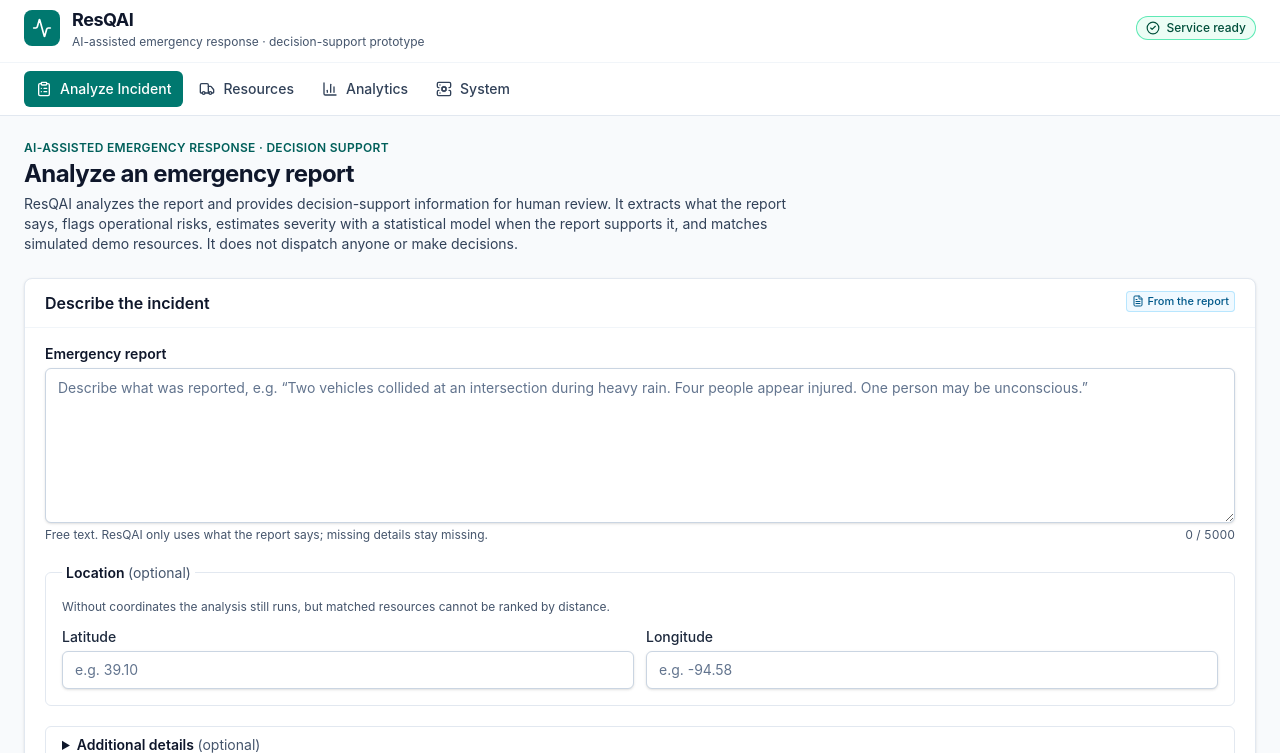
Test: Analyze page › includes coordinates only when the user provided them
This screenshot has width=1280, height=753.
In the text box labelled "Emergency report": [640, 445] box [45,368,1235,522], type "A crash."
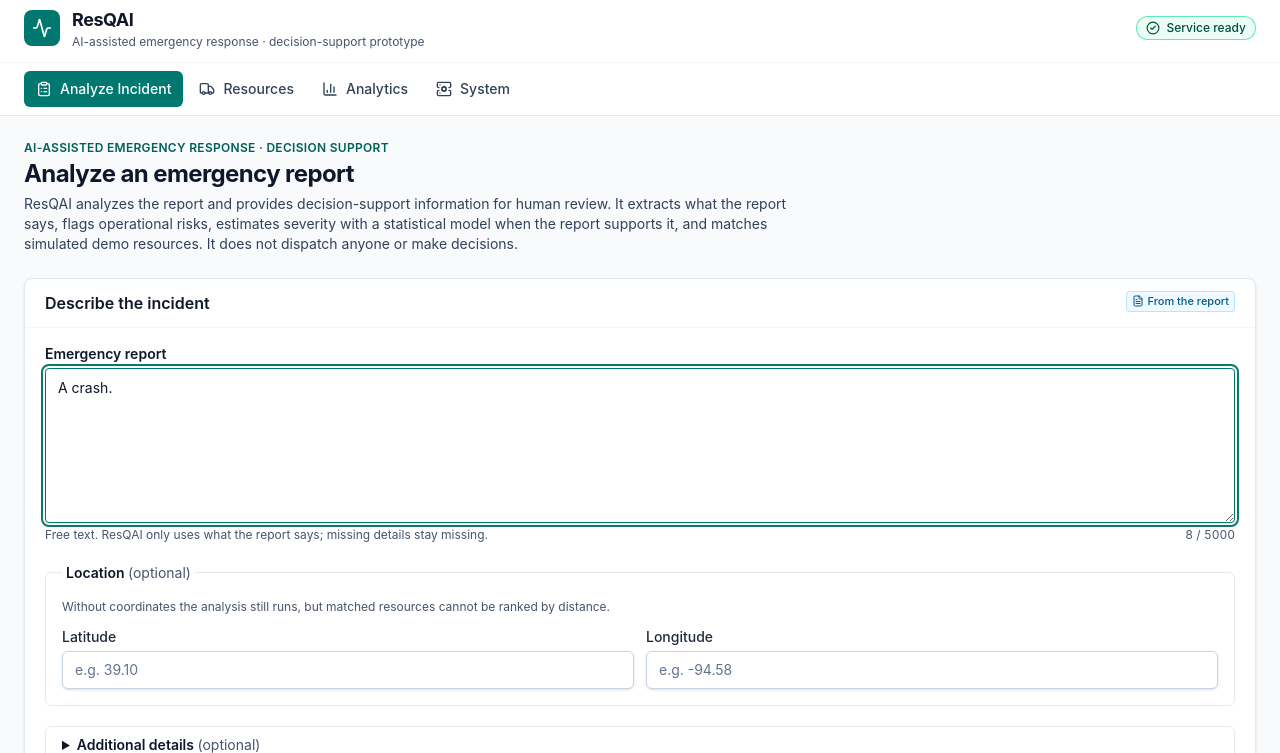
In the field labelled "Latitude": [348, 670] box [62,650,634,688], type "39.10"
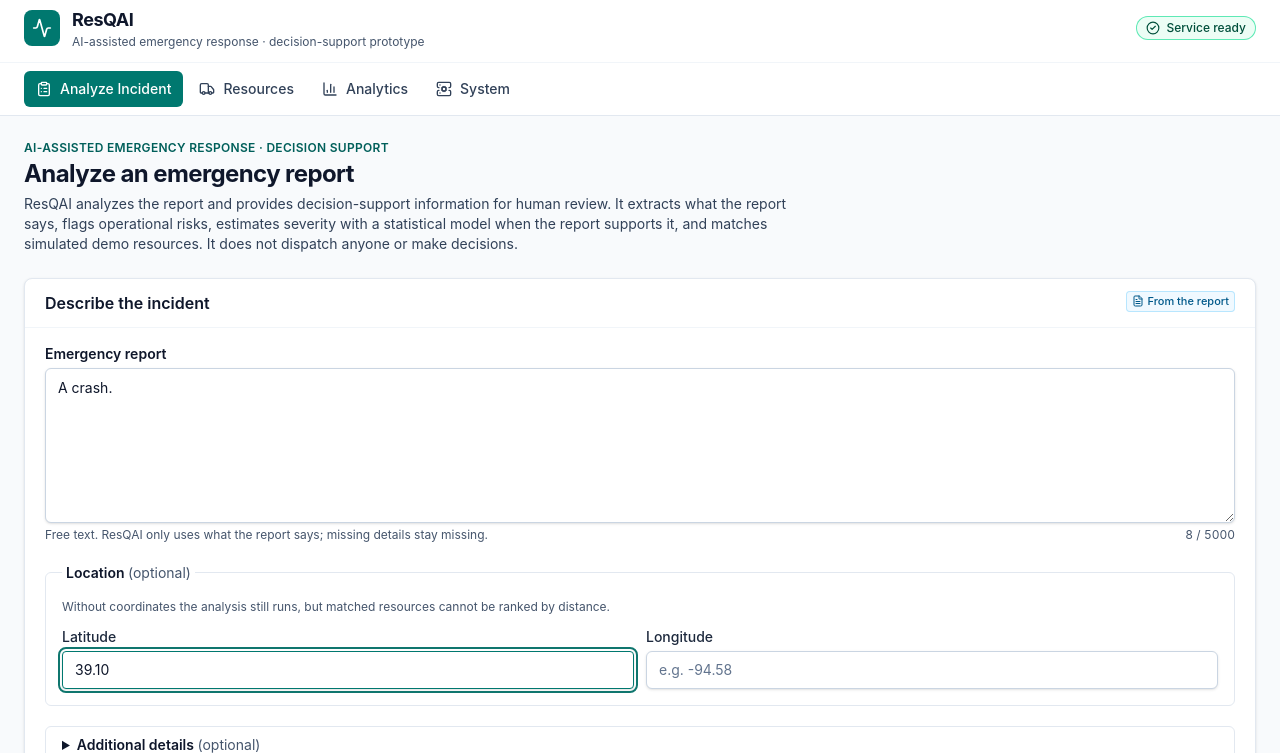
In the field labelled "Longitude": [932, 670] box [646,650,1218,688], type "-94.58"
(page scrolled)
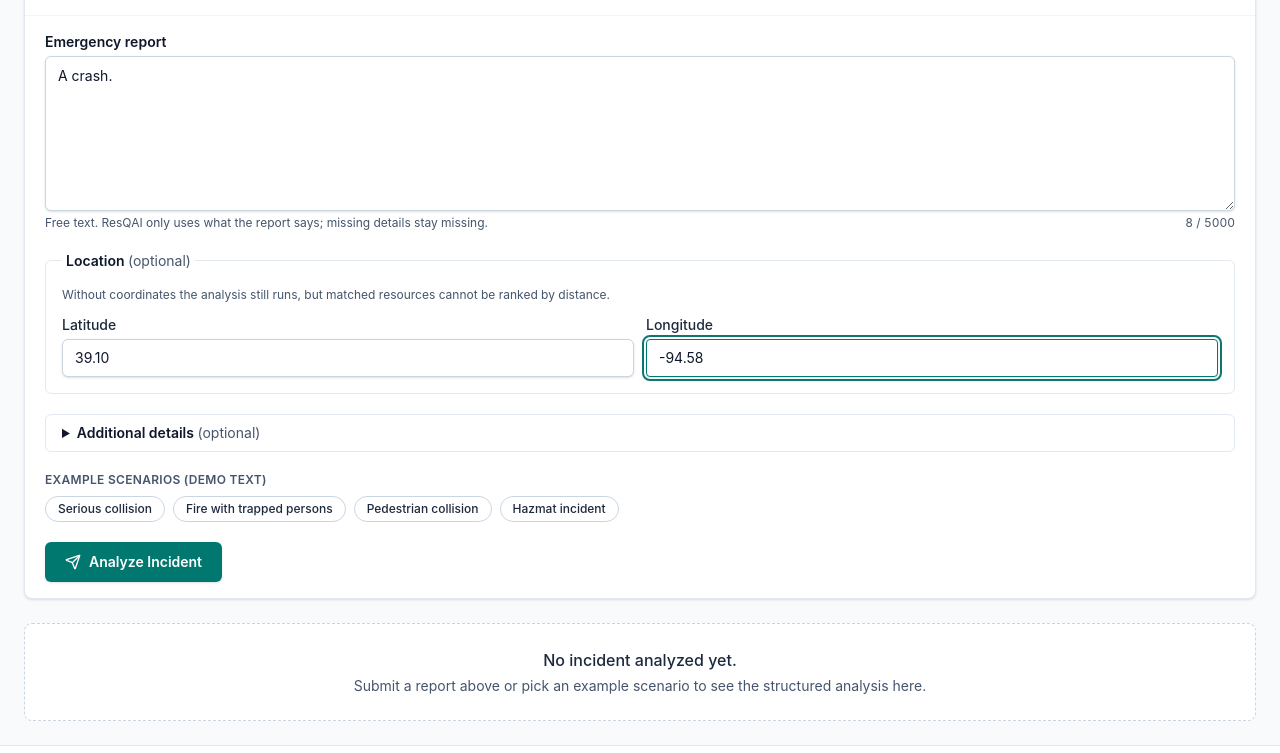
Click the button "Analyze Incident": [134, 562] box [45,542,222,582]
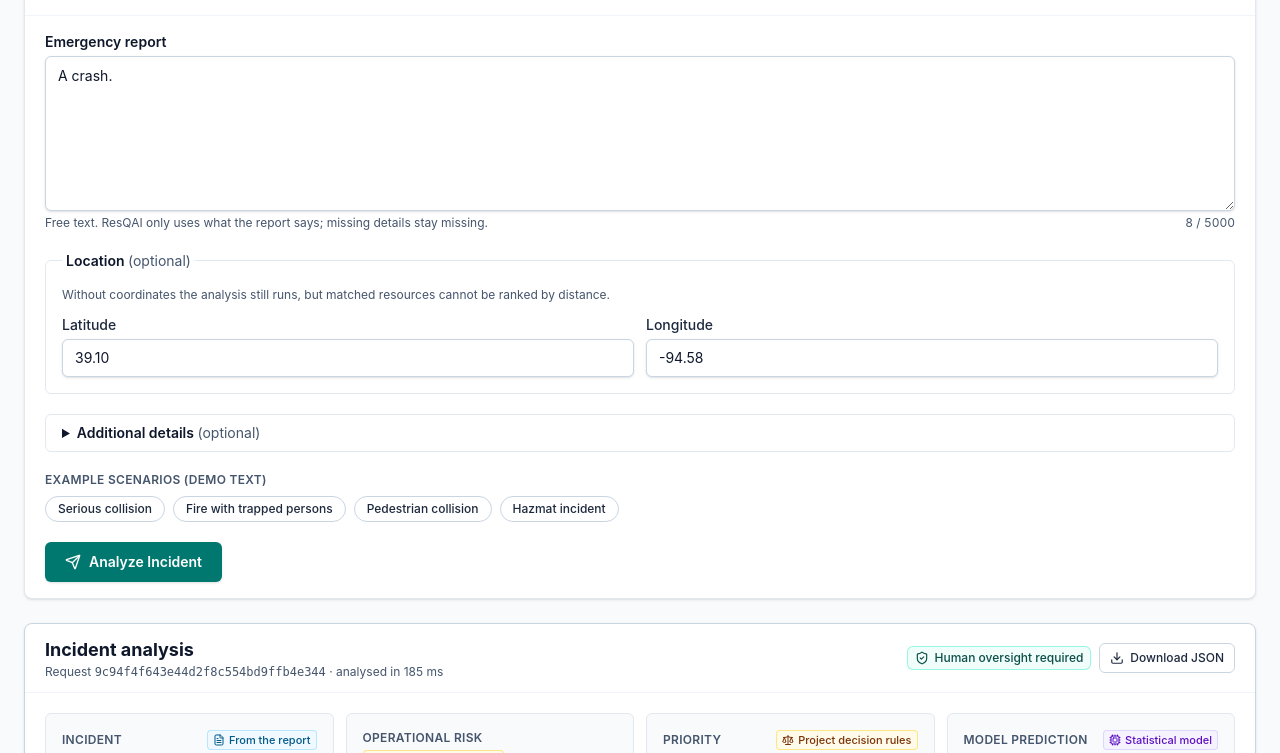
Now the heading "Incident analysis" is shown, box [45,638,194,660]
